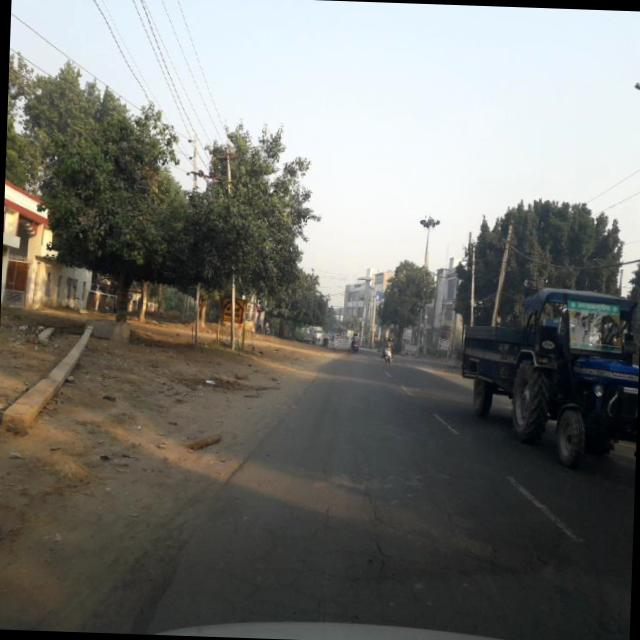crack: (205, 463, 598, 636)
